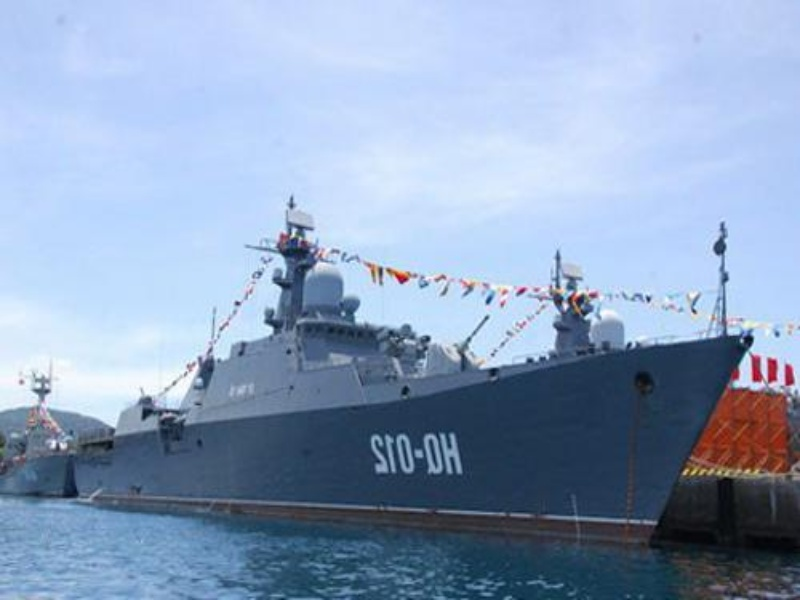cruise: (89, 284, 738, 546), (4, 407, 74, 500)
